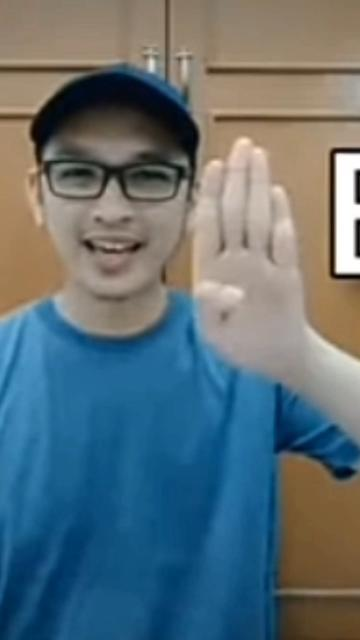B: (189, 132, 309, 376)
